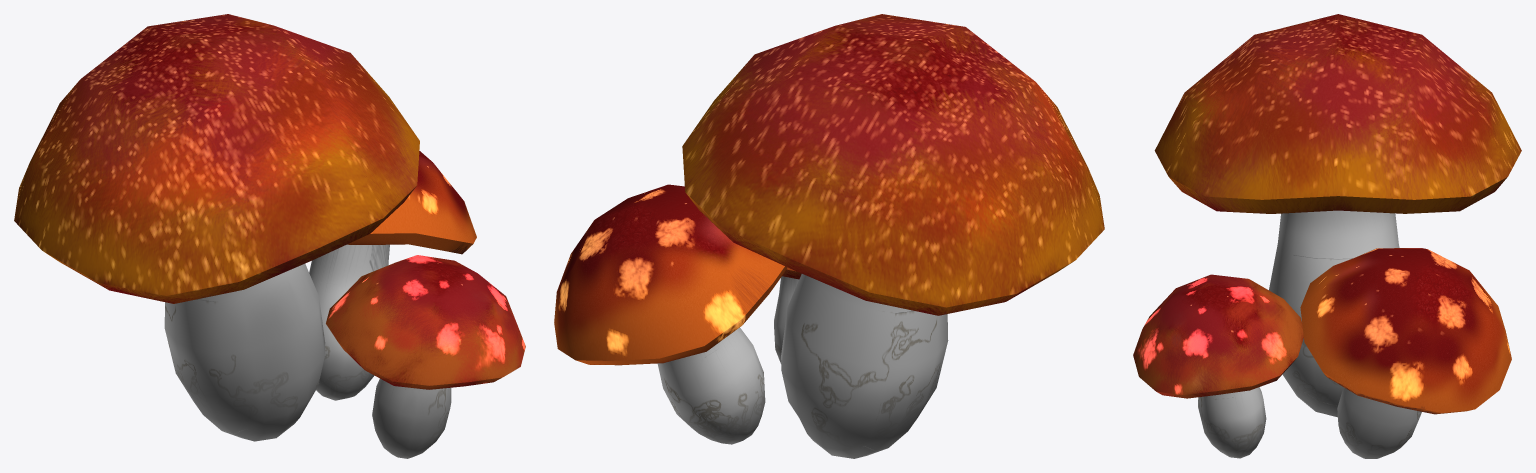
Rendered from mushrooms.glb.
3 renders of one model, left to right at view 1: azimuth 30°, elevation 25°; view 2: azimuth 150°, elevation 25°; view 3: azimuth 270°, elevation 25°, orthographic. The views are drawn at different scales.
Parts seen in each view (by area): view 1: Object_3, Object_2; view 2: Object_3, Object_2; view 3: Object_3, Object_2.
Part boxes in pixels (x1,y1,x2,y2): Object_3: (14,14,525,389); Object_2: (164,244,451,458); Object_3: (554,14,1104,365); Object_2: (657,274,948,458); Object_3: (1133,14,1521,414); Object_2: (1198,210,1421,458).
Size of the model in its own units: 12.73 by 11.08 by 10.53.
Materials: 2 (2 with a texture image).
